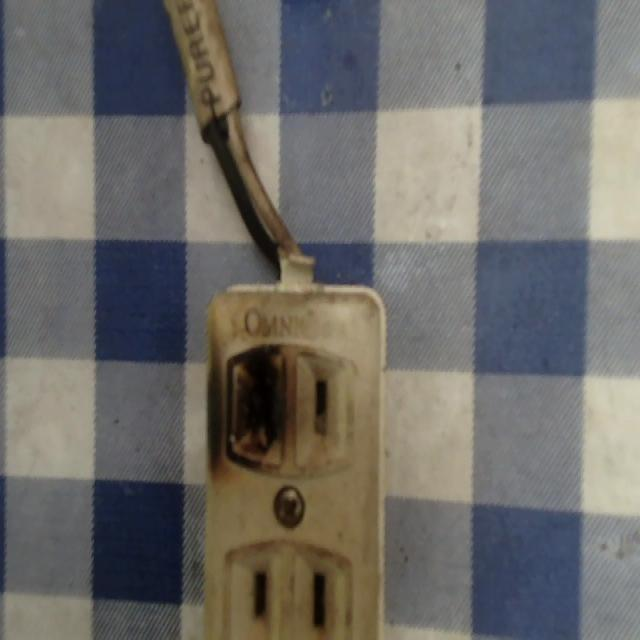-: (228, 344, 292, 469)
